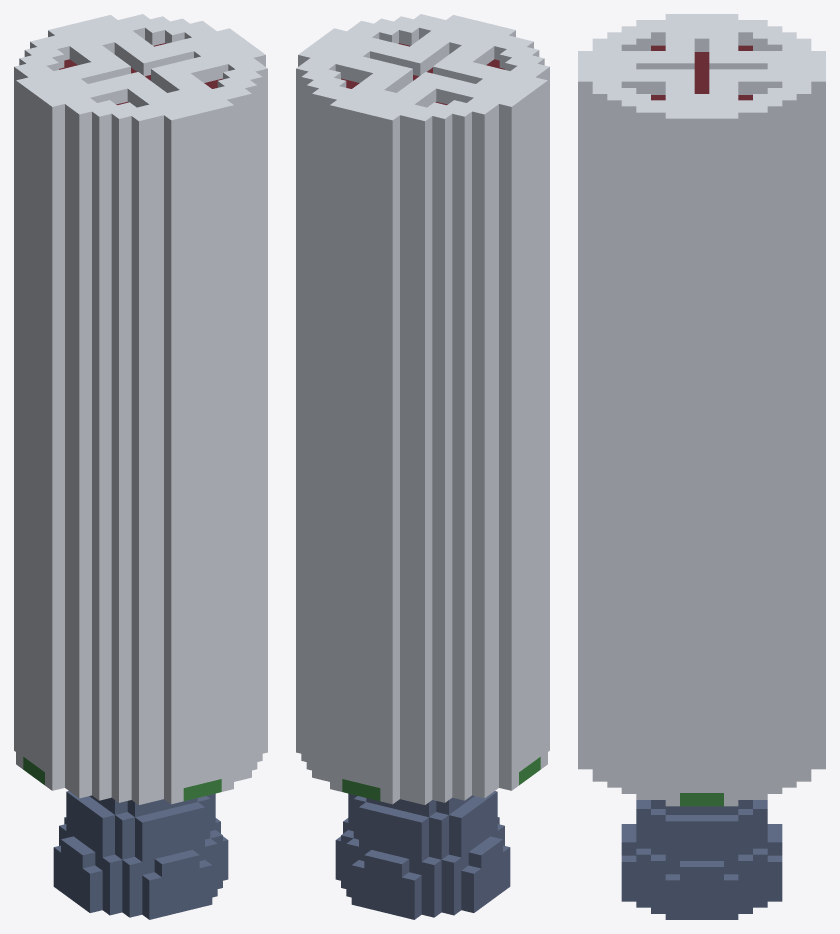
Rendered from Sun_V_second_stage.obj.
3 views of the same model, side by side, from view 1: azimuth 30°, elevation 25°; view 2: azimuth 150°, elevation 25°; view 3: azimuth 270°, elevation 25° (orthographic).
Bounding box in the file's own units: 1.7 × 6.2 × 1.7.
1 material, 1 textured.
